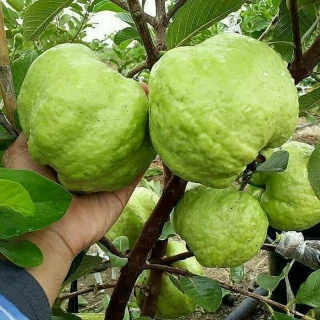oi: (150, 32, 296, 189), (17, 42, 156, 195), (172, 182, 266, 265)
